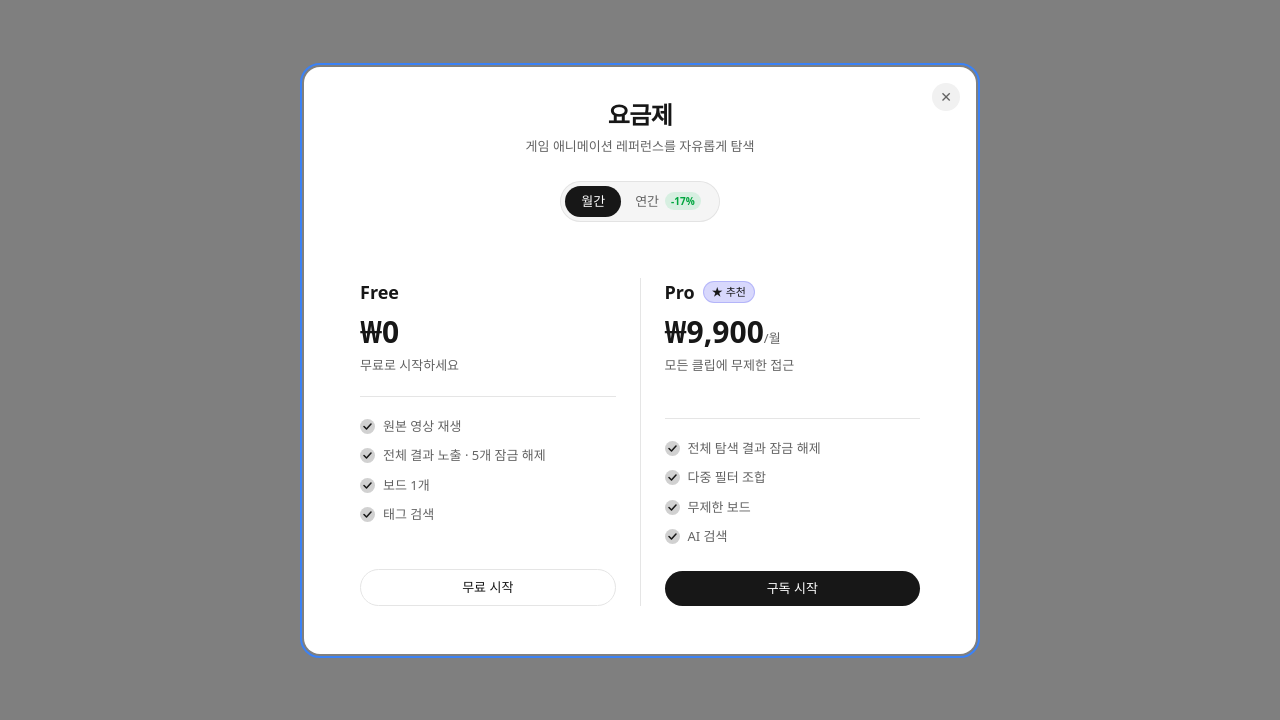
Test: PricingModal › keeps the yearly savings note slot reserved in monthly mode so CTA buttons stay put
The image size is (1280, 720).
Step 1. Click the button "연간 -17%" → (668, 201), box [621,185,715,216]
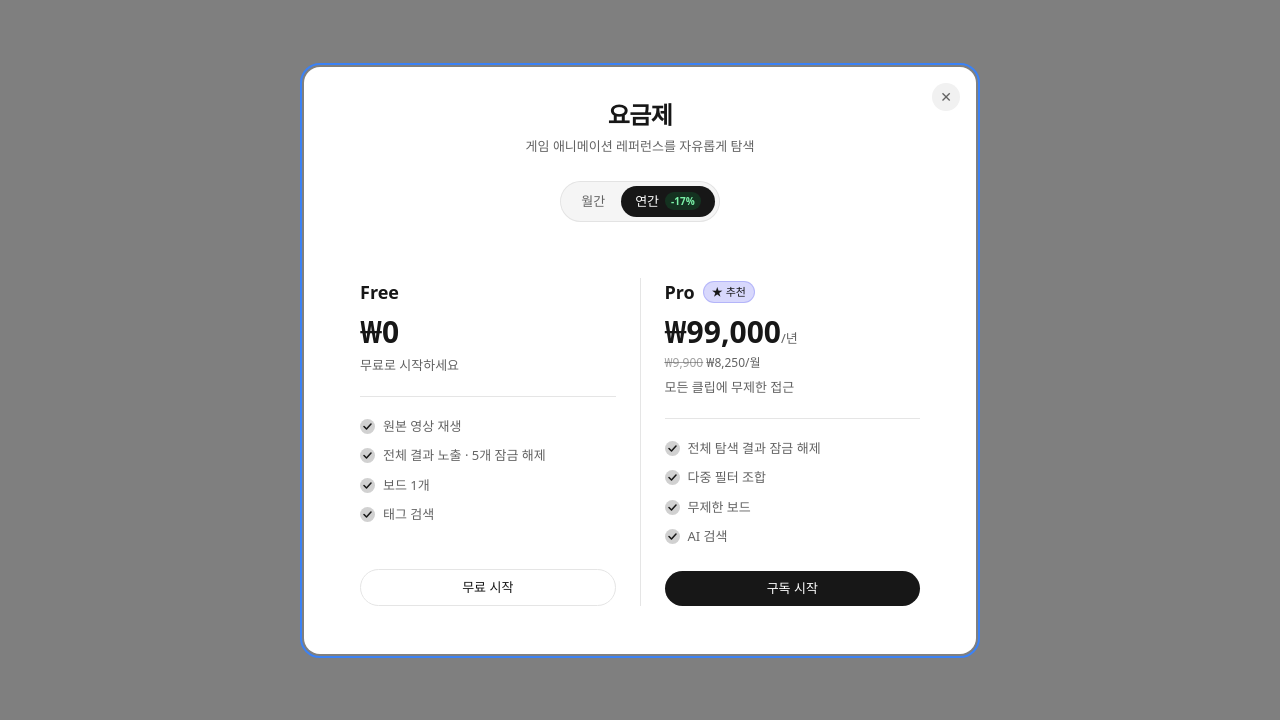
Check: the element with test id "pricing-modal-pro-billing-note" shows "₩8,250/월", box [706,354,760,370]
Check: the element with test id "pricing-modal-pro-billing-spacer" is gone
